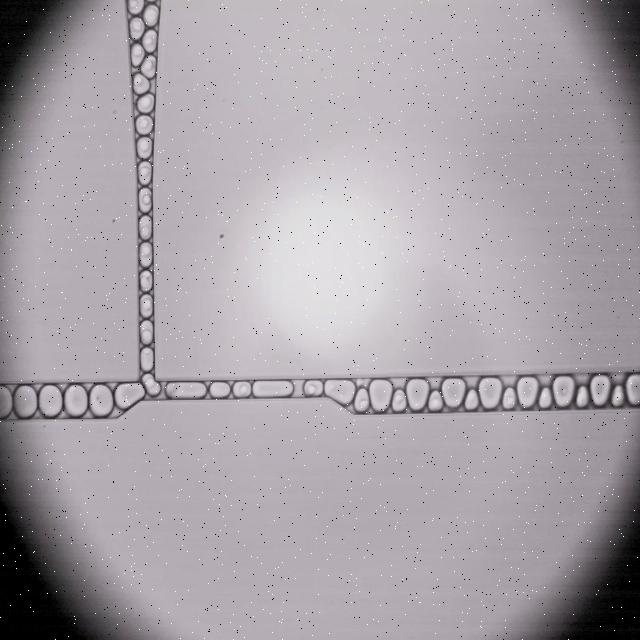L: (142, 373, 160, 395), (354, 388, 369, 412), (141, 55, 156, 78), (135, 115, 153, 134), (136, 137, 152, 158), (140, 347, 154, 371), (129, 17, 144, 39), (142, 30, 157, 52), (428, 390, 443, 412), (139, 242, 152, 267), (131, 43, 145, 66), (138, 162, 152, 185), (392, 389, 406, 412), (134, 74, 150, 94), (210, 382, 230, 398), (144, 5, 159, 26), (502, 387, 516, 409), (137, 94, 154, 112), (139, 216, 152, 239), (140, 294, 153, 317), (140, 321, 153, 344), (465, 389, 479, 410), (233, 381, 250, 398), (139, 188, 151, 212), (611, 385, 624, 406), (304, 380, 322, 395), (538, 388, 551, 408), (576, 386, 588, 407), (140, 271, 152, 291), (128, 0, 144, 14)
S: (13, 385, 37, 418), (324, 380, 355, 405), (115, 383, 144, 409), (64, 384, 87, 416), (90, 384, 113, 416), (369, 380, 392, 412), (479, 377, 502, 409), (39, 385, 62, 416), (406, 379, 429, 410), (442, 378, 466, 407), (552, 376, 574, 406), (517, 377, 538, 408), (166, 382, 206, 398), (253, 381, 293, 397), (590, 374, 610, 406), (625, 374, 640, 405), (0, 385, 12, 419)
